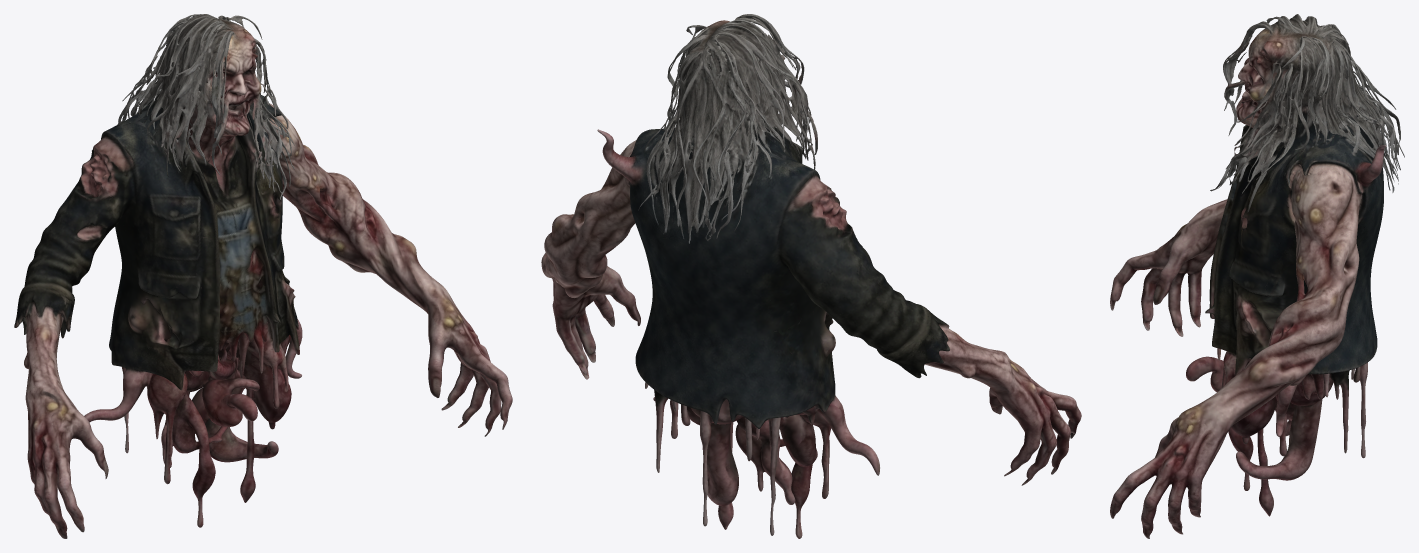
File: dona_nice_monster_fase_2.glb
The picture shows the model from 3 angles, left to right: view 1: azimuth 30°, elevation 25°; view 2: azimuth 150°, elevation 25°; view 3: azimuth 270°, elevation 25°; orthographic projection. The views are drawn at different scales.
Size of the model in its own units: 1.87 by 1.89 by 1.03.
1 material, 1 textured.
